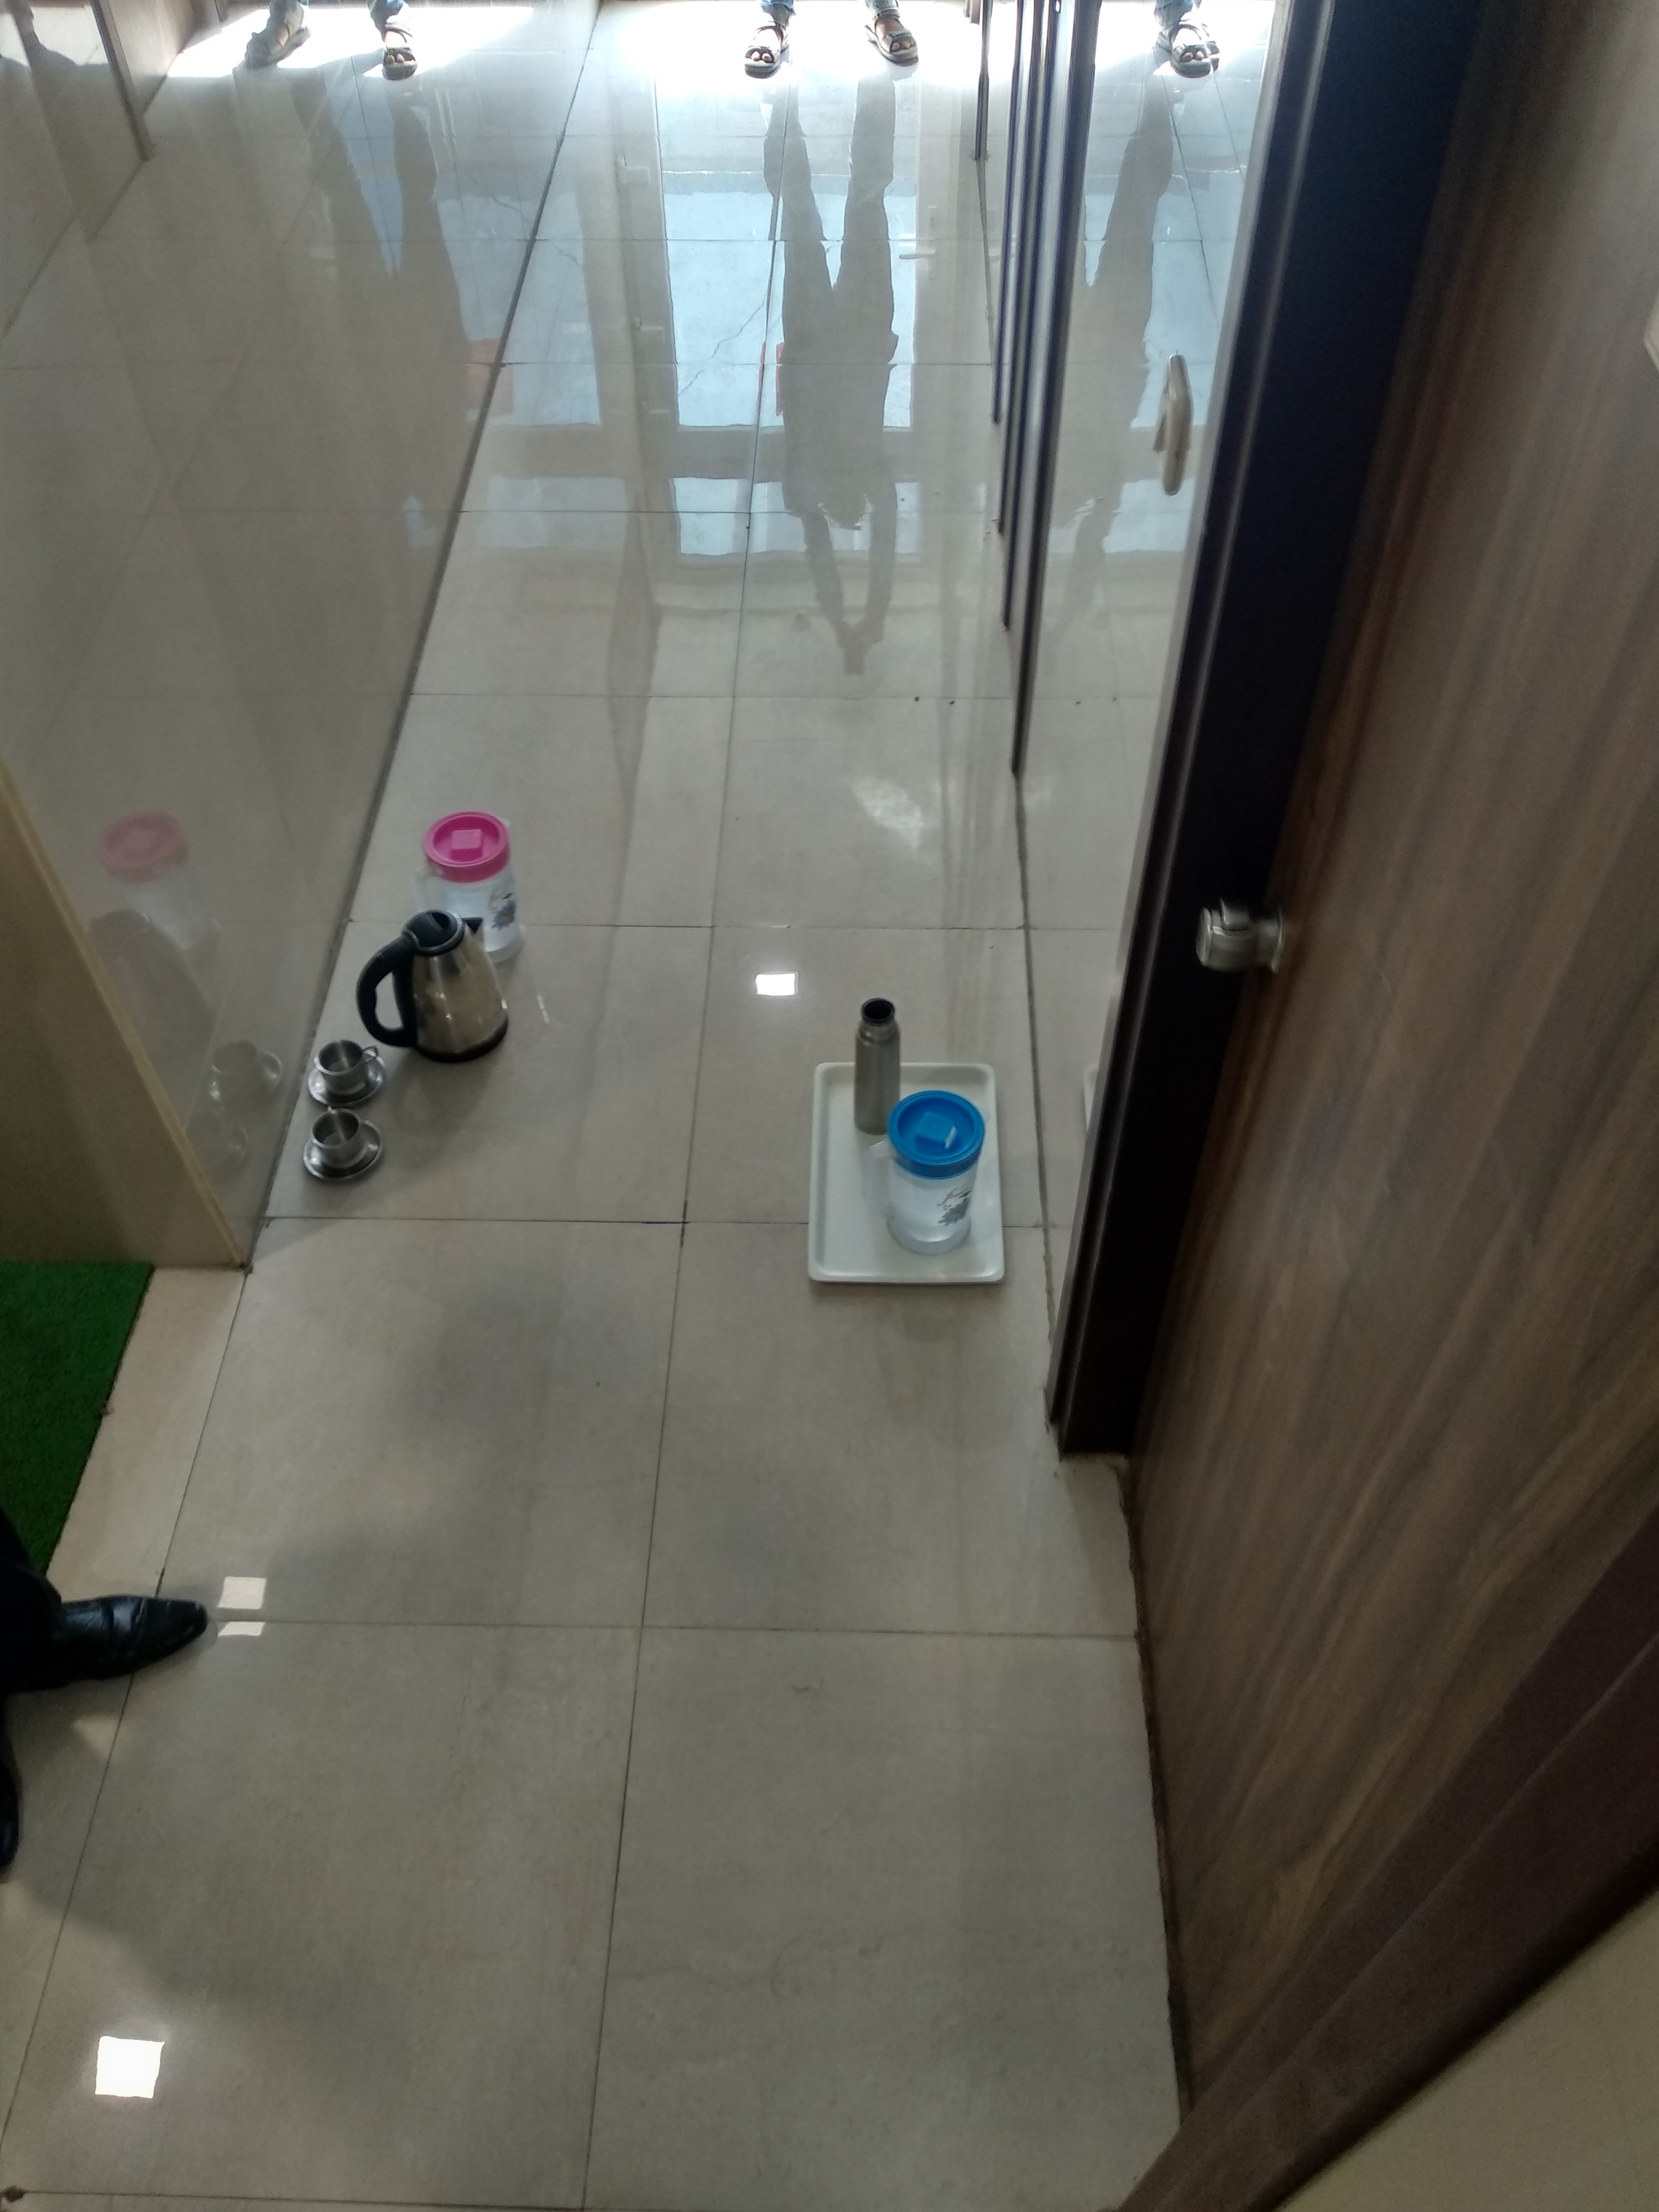CUP: (303, 1104, 390, 1181), (301, 1036, 390, 1103)
FLASK: (849, 991, 904, 1136)
JUG: (359, 904, 523, 1068), (871, 1101, 992, 1263), (410, 803, 533, 902)
